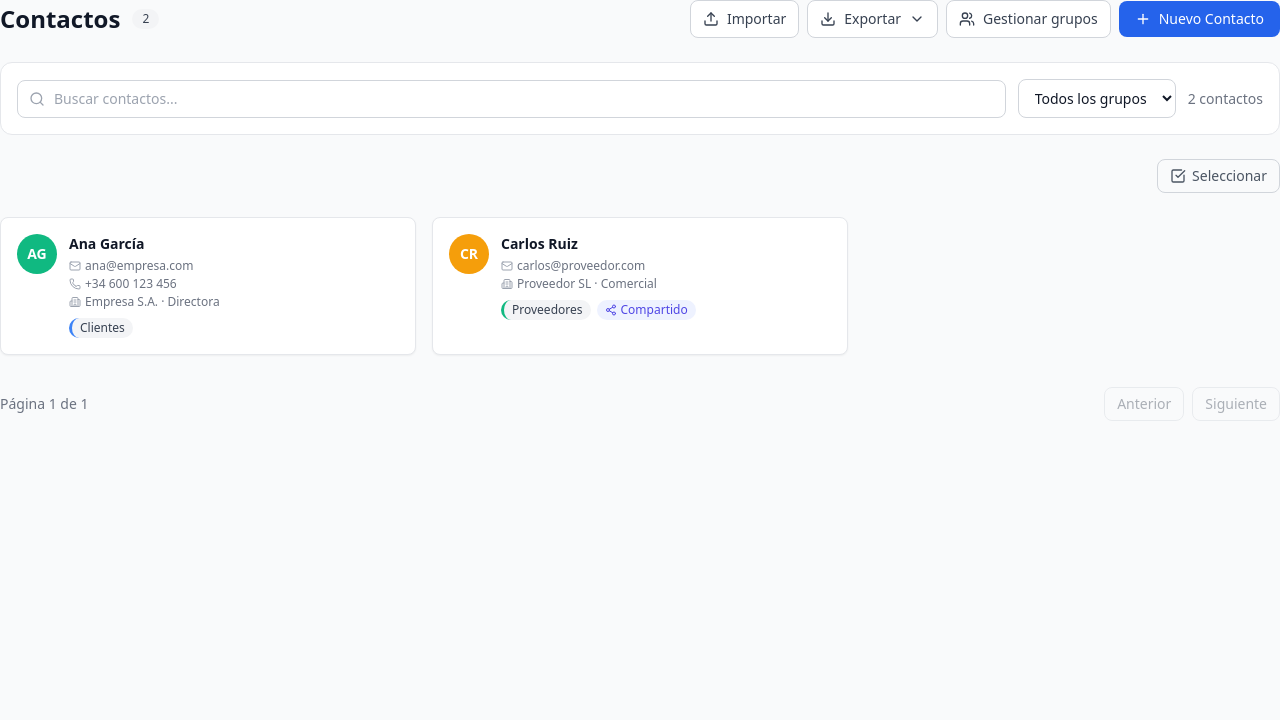
Test: ContactsPage › el botón Nuevo Contacto abre el ContactModal
This screenshot has width=1280, height=720.
Click the button "Nuevo Contacto" at {"x": 1199, "y": 19}, box [1119, 1, 1279, 37]
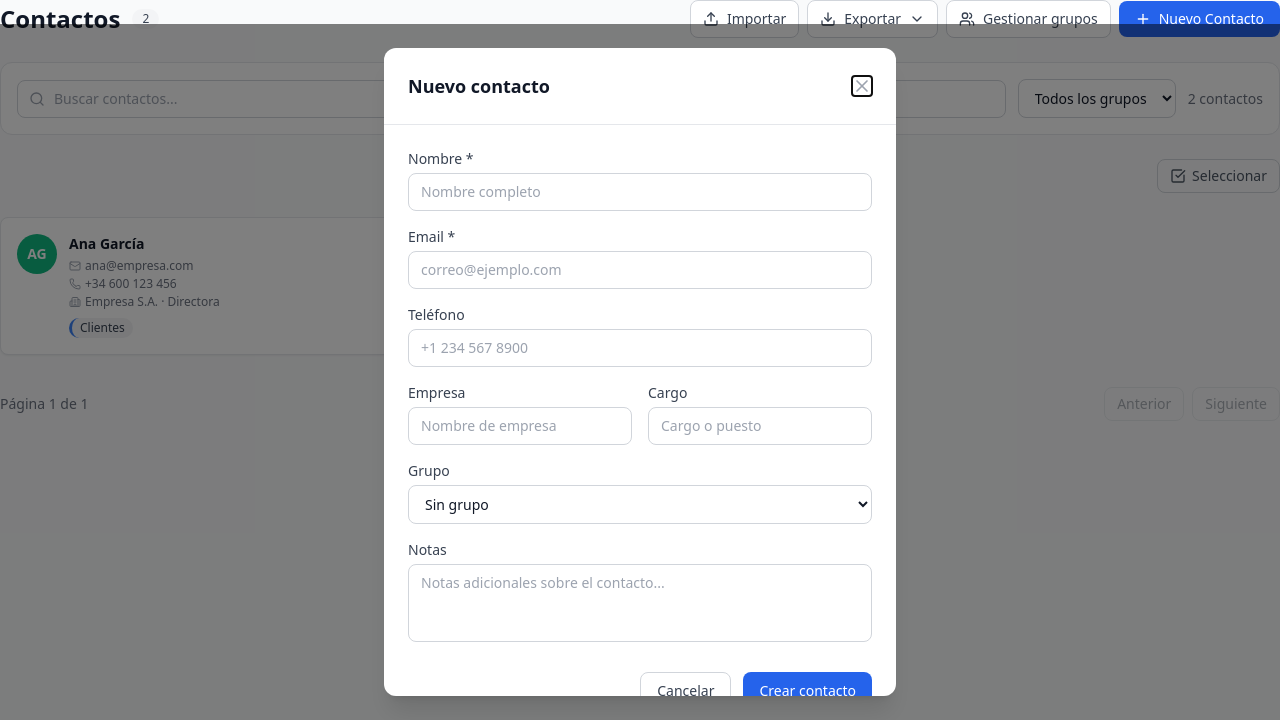
Expected: the dialog is shown, [384, 48, 896, 696]
Expected: the heading "Nuevo contacto" is shown, [408, 72, 550, 100]
